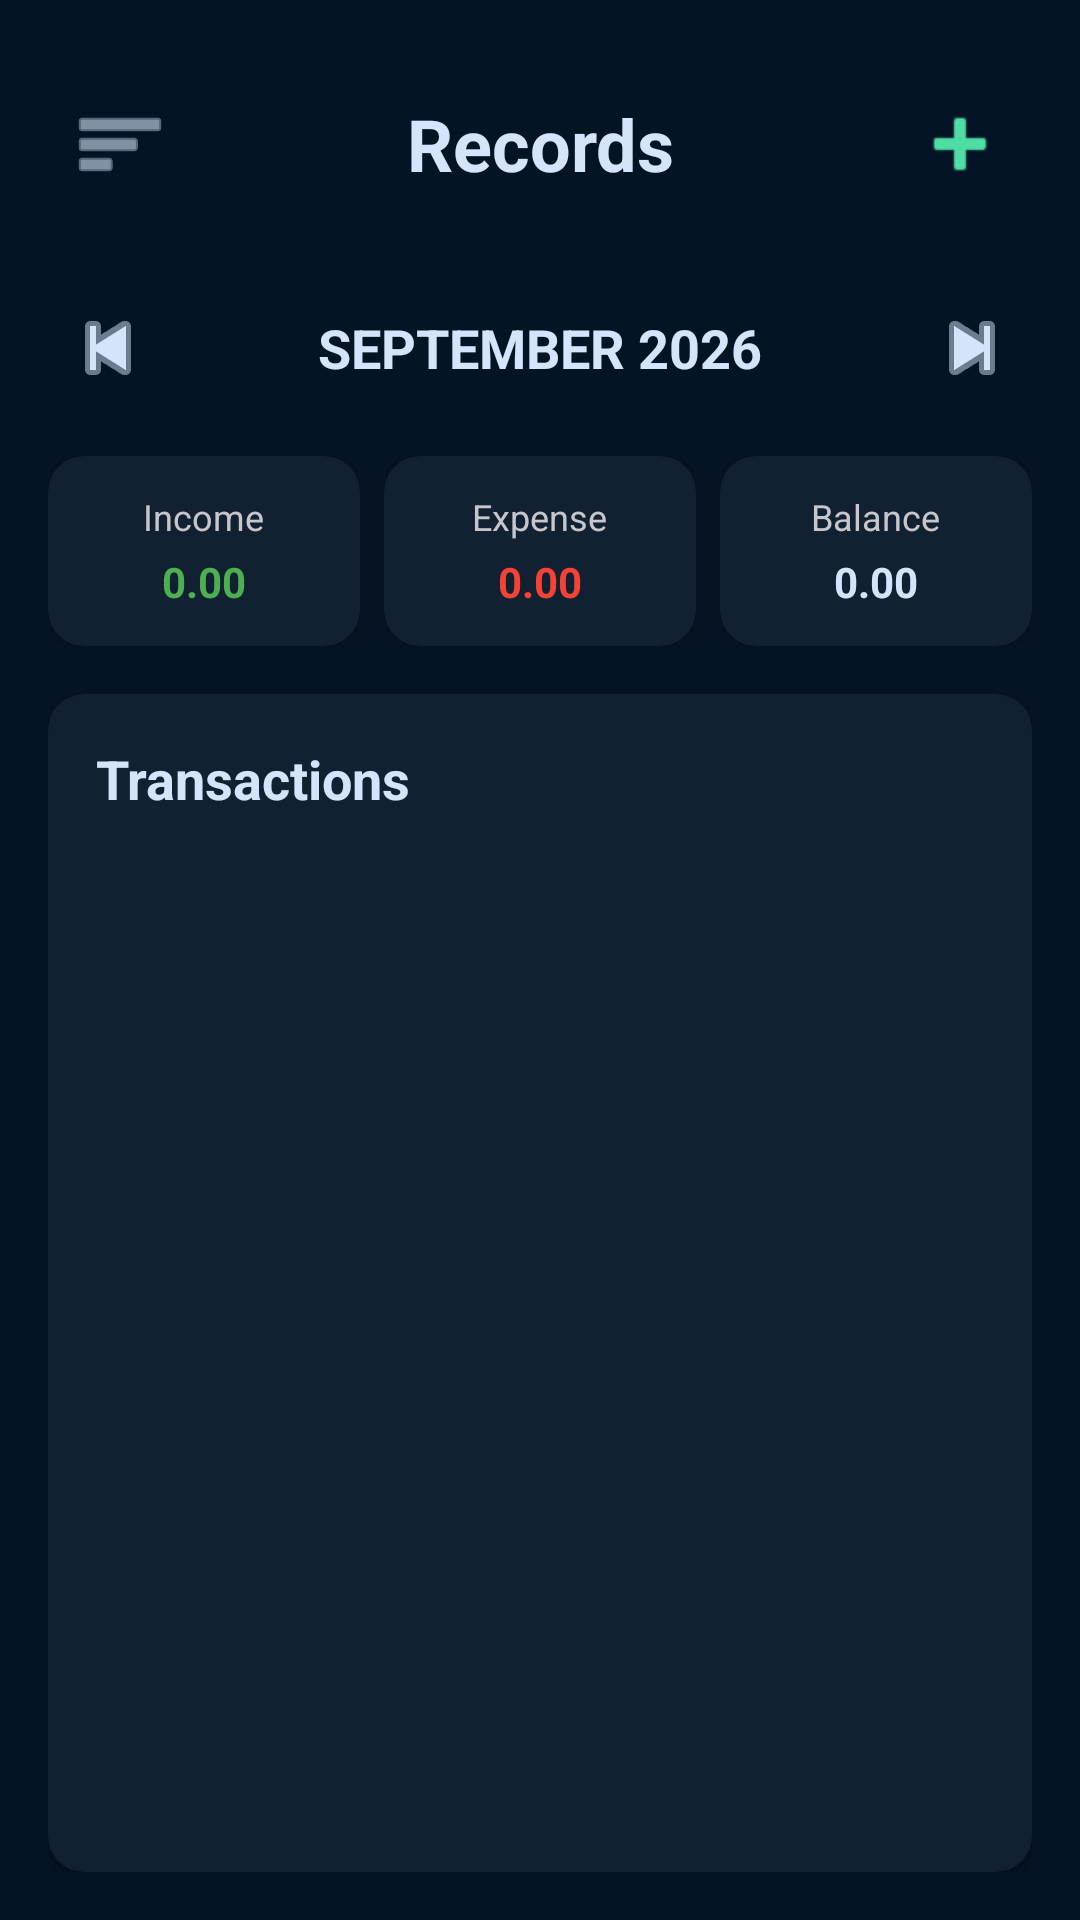

Locate icon controls on the screen. Image size 1080 × 1920, boxes as box(x1, y1, x2, y2).
Add Transaction: box(933, 117, 987, 171)
Menu: box(79, 118, 161, 171)
Next Month: box(949, 321, 995, 375)
Previous Month: box(85, 321, 131, 375)
